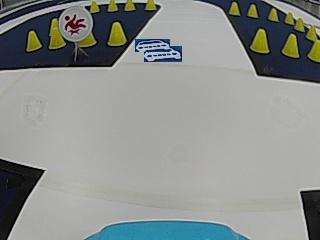cone: (250, 28, 270, 54), (107, 21, 126, 47), (281, 33, 299, 58), (48, 27, 65, 49), (25, 30, 40, 51), (307, 39, 319, 63), (228, 1, 240, 16), (247, 3, 258, 18), (268, 7, 278, 22), (295, 16, 304, 32), (285, 10, 294, 25), (107, 0, 118, 12), (89, 0, 99, 13), (124, 0, 135, 11), (145, 0, 156, 10)
tumble: (62, 10, 90, 37)
